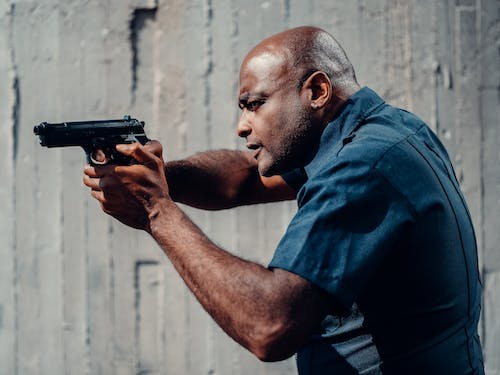gun: (32, 113, 151, 168)
